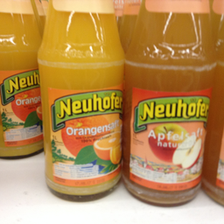juice: (126, 1, 218, 204), (38, 1, 126, 201), (1, 1, 42, 160)
